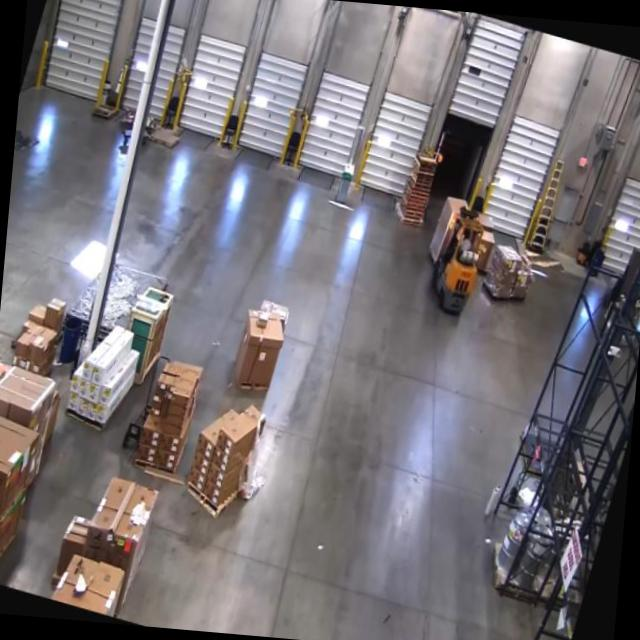forklift: (420, 208, 493, 322)
